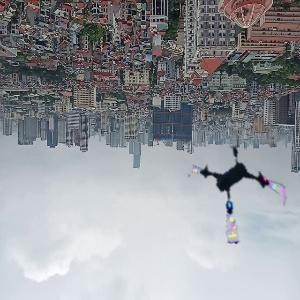drone: (189, 140, 294, 245)
